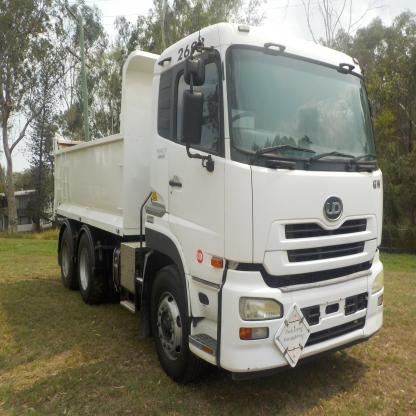dump_truck: (53, 18, 389, 385)
